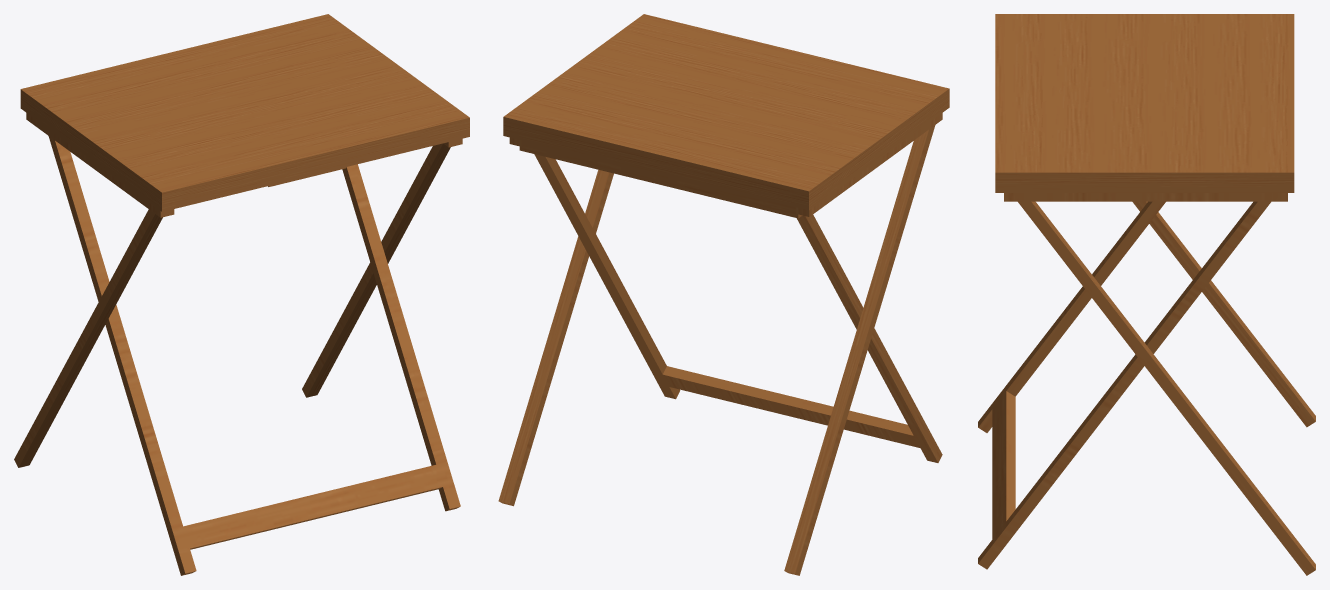
The model's file is TV_Tray_E.FBX.
The picture shows the model from 3 angles, left to right: view 1: azimuth 30°, elevation 25°; view 2: azimuth 150°, elevation 25°; view 3: azimuth 270°, elevation 25°; orthographic projection. The views are drawn at different scales.
Visible parts, largest first — view 1: Tv_Tray; view 2: Tv_Tray; view 3: Tv_Tray.
Part boxes in pixels (x1=…): Tv_Tray: x1=14, y1=14, x2=469, y2=575; Tv_Tray: x1=498, y1=14, x2=949, y2=575; Tv_Tray: x1=978, y1=14, x2=1315, y2=575.
Size of the model in its own units: 100 by 120 by 90.36.
